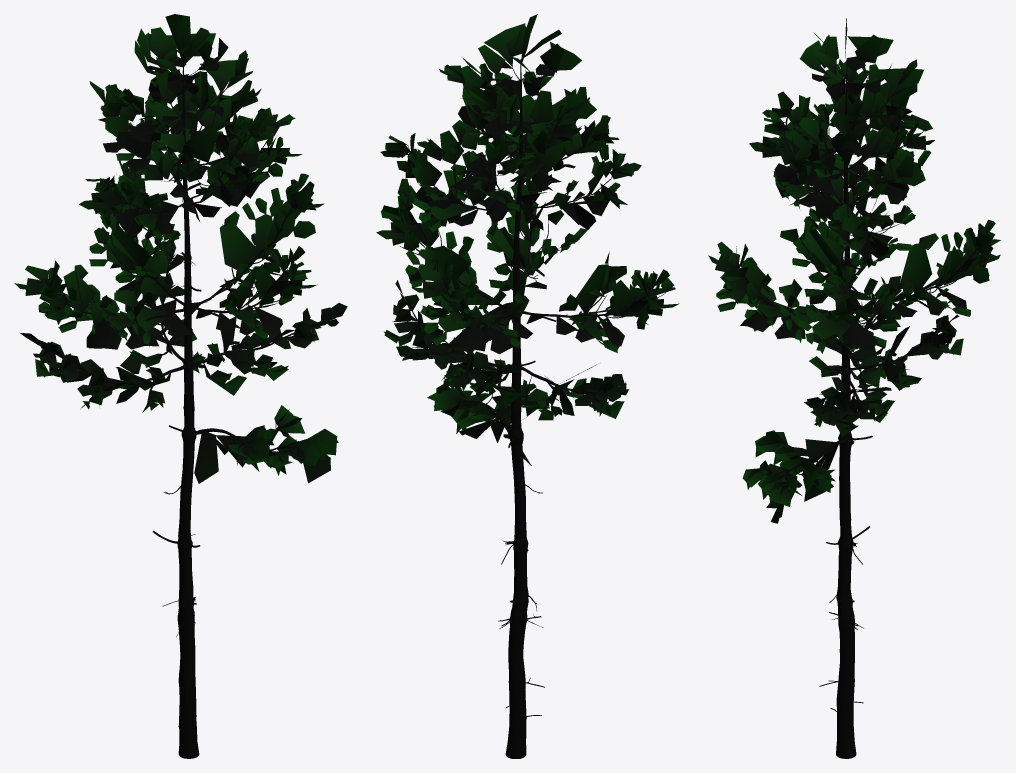
File: Pine_beach_01_B.fbx
3 views of the same model, side by side, from view 1: azimuth 30°, elevation 25°; view 2: azimuth 150°, elevation 25°; view 3: azimuth 270°, elevation 25° (orthographic).
Visible parts, largest first — view 1: pine_beach_01_B_LOD0; view 2: pine_beach_01_B_LOD0; view 3: pine_beach_01_B_LOD0.
Part boxes in pixels (<box>): pine_beach_01_B_LOD0: <box>14,14,347,758</box>; pine_beach_01_B_LOD0: <box>376,14,679,758</box>; pine_beach_01_B_LOD0: <box>708,18,1000,758</box>.
Size of what is drawn, in the model's own units: 377 by 903 by 328.
